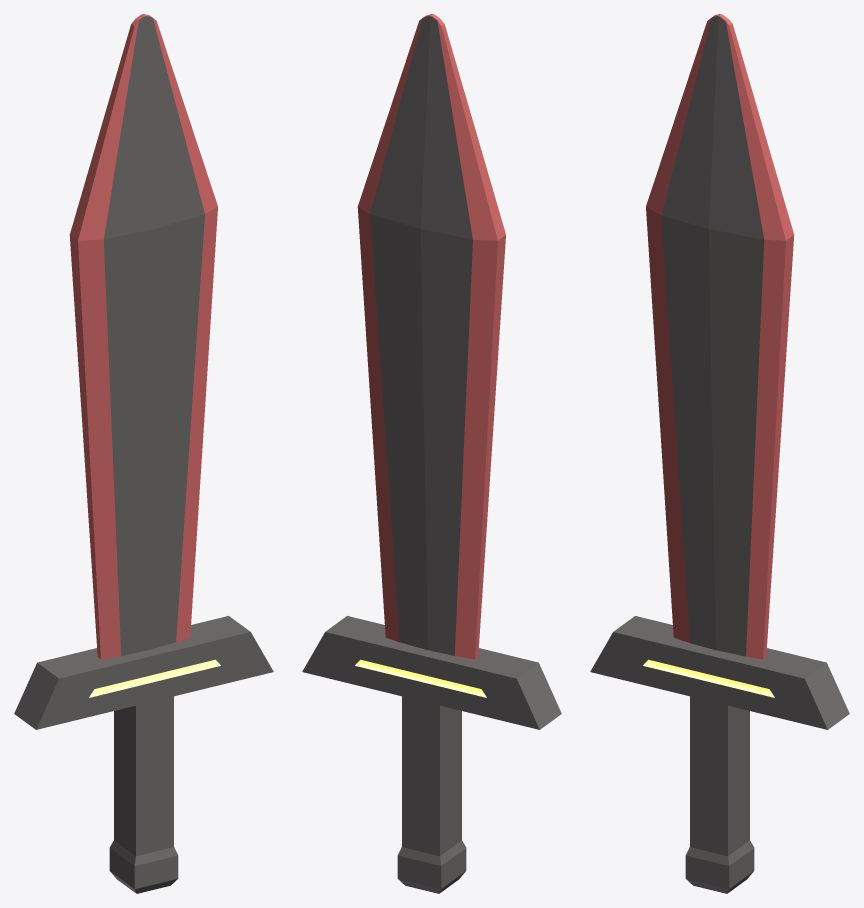
The model's file is KisaKilic.fbx.
3 renders of one model, left to right at view 1: azimuth 30°, elevation 25°; view 2: azimuth 150°, elevation 25°; view 3: azimuth 330°, elevation 25°, orthographic.
Visible parts, largest first — view 1: kisabicak; view 2: kisabicak; view 3: kisabicak.
Boxes of the visible parts, left/top/right/bottom form: kisabicak: left=14, top=14, right=273, bottom=893; kisabicak: left=302, top=14, right=561, bottom=893; kisabicak: left=590, top=14, right=849, bottom=893.
Bounding box in the file's own units: 63.04 × 220 × 11.57.
